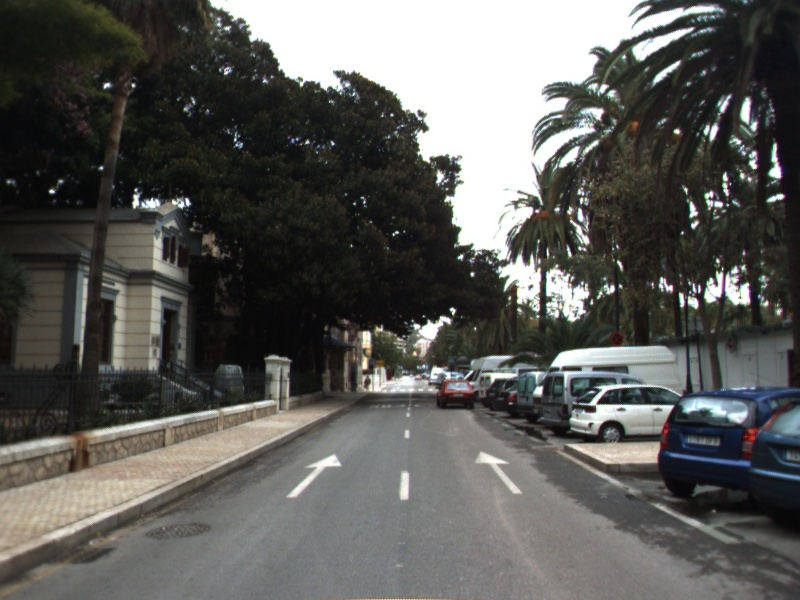STRAIGHT: (284, 452, 344, 500), (472, 449, 525, 496)
